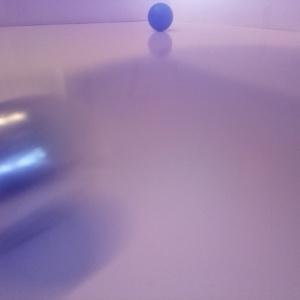alive_ball: (1, 95, 91, 254)
dead_ball: (147, 2, 173, 30)
